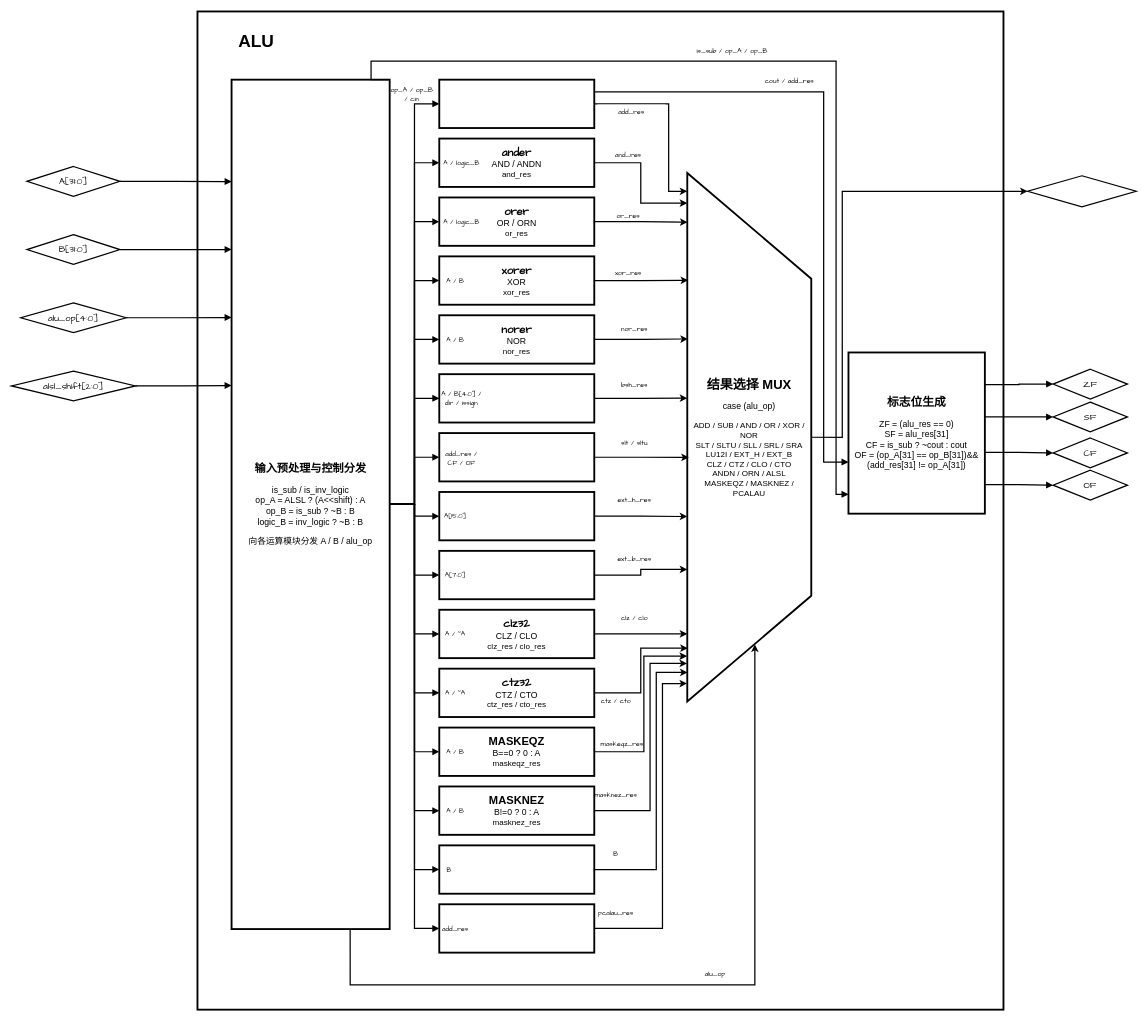
Some shapes in this 1147 by 1021 pixel diagram are drawn without their labels. The box of each missing label's shape, as (x1, y1, x2, y2) in pixels:
adder ADD / SUB / ALSL 基础加法 add_res / cout: (438, 78, 595, 129)
alu_res[31:0]: (1027, 175, 1136, 207)
bsh32 SLL / SRL / SRA bsh_res: (438, 373, 595, 423)
EXT_B 字节符号扩展 ext_b_res: (438, 550, 595, 600)
EXT_H 半字节符号扩展 ext_h_res: (438, 491, 595, 541)
LU12I 通路 直接选择 B lu12i_res: (438, 844, 595, 894)
PCALAU {add_res[31:12],12'b0} pcalau_res: (438, 903, 595, 953)
比较结果单元 SLT / SLTU slt_res / sltu_res: (438, 432, 595, 482)
